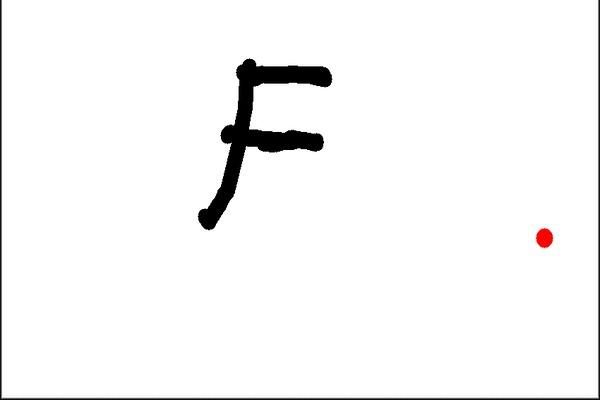F: (193, 54, 334, 232)
